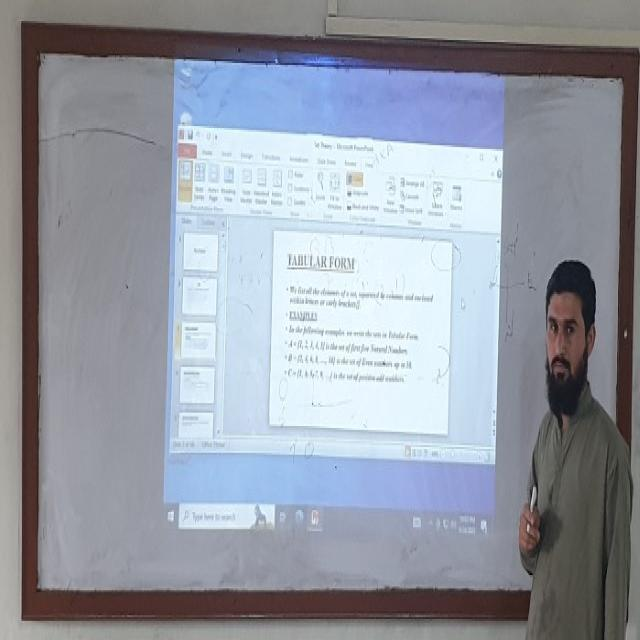Instructor: (522, 244, 623, 628)
Slide: (159, 34, 505, 552)
White-board: (30, 32, 632, 611)
